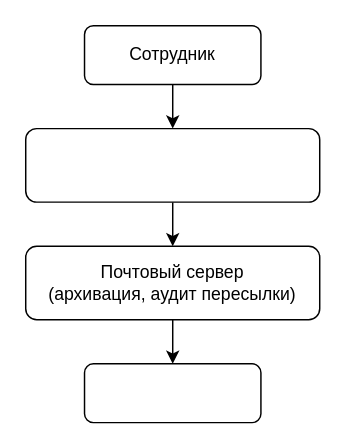
The diagram is 345 pixels wide and 448 high, and some of its shapes have lost their labels. The centre of each missing label's shape, as x and y in pixels:
Архив истории: point (172, 392)
Отправка через e-mail (S/MIME/TLS, DLP, plugin): point (172, 164)
